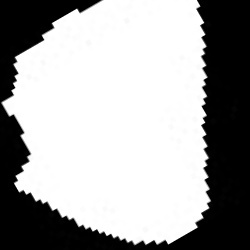spot: (3, 2, 210, 246)
